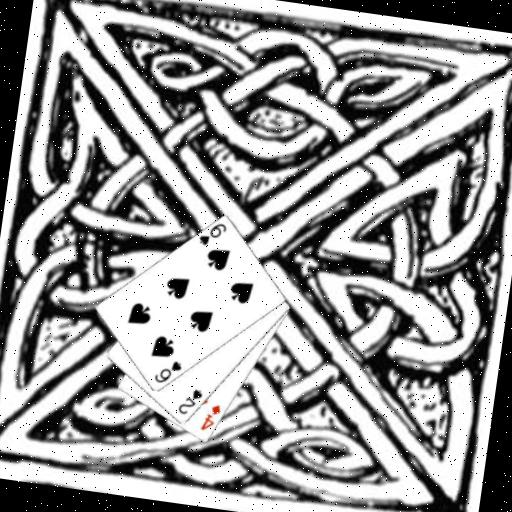2S: (174, 384, 205, 419)
4D: (197, 400, 223, 435)
6S: (150, 355, 184, 387), (195, 218, 229, 250)
